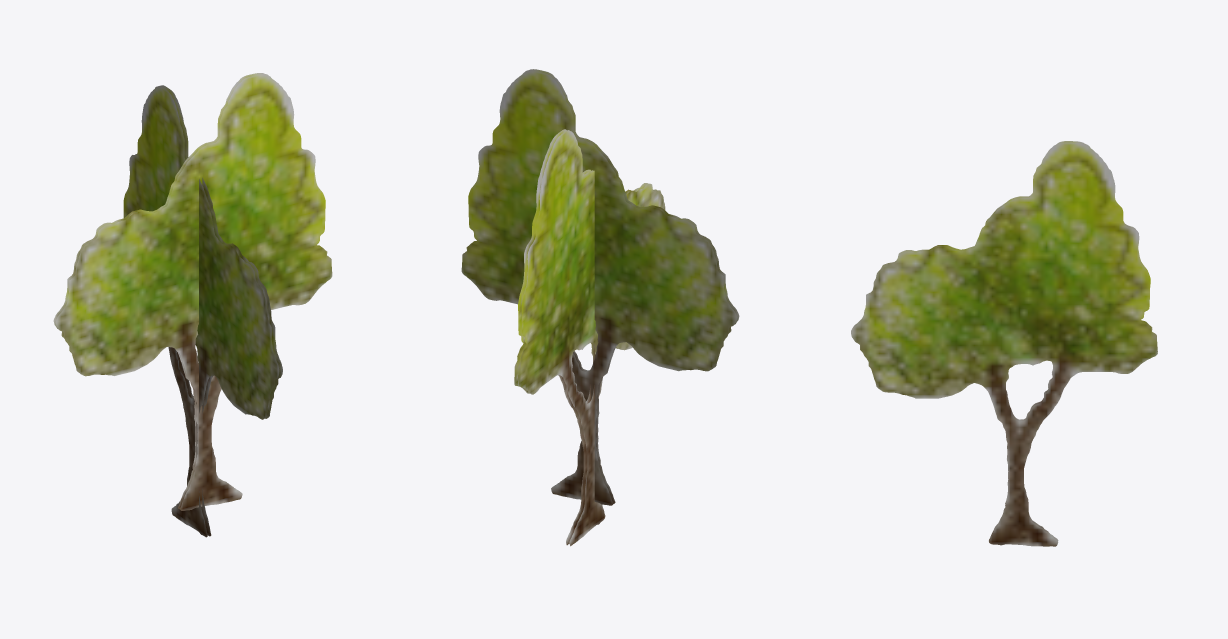
Rendered from Bush3.fbx.
3 views of the same model, side by side, from view 1: azimuth 30°, elevation 25°; view 2: azimuth 150°, elevation 25°; view 3: azimuth 270°, elevation 25° (orthographic). The views are drawn at different scales.
Parts seen in each view (by area): view 1: Bush3; view 2: Bush3; view 3: Bush3.
Part boxes in pixels (<box>): Bush3: <box>53,73,332,537</box>; Bush3: <box>461,69,739,546</box>; Bush3: <box>851,141,1157,546</box>.
Size of the model in its own units: 409 by 518 by 409.
Materials: 1 (1 with a texture image).
